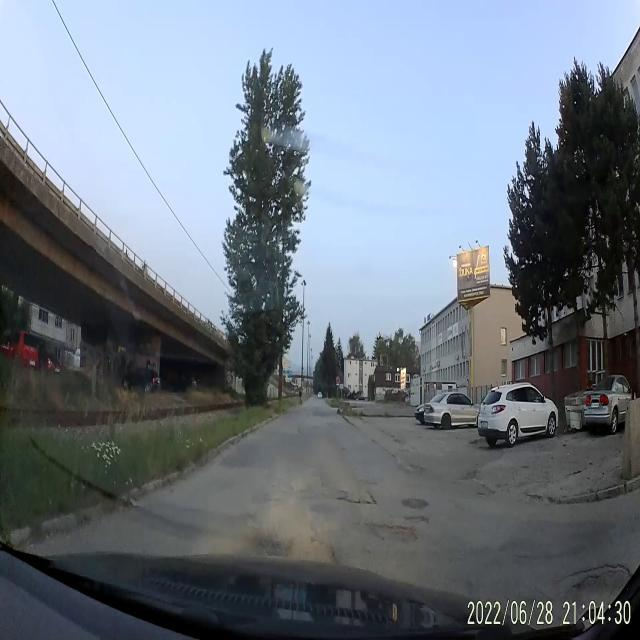Manhole: (401, 492, 430, 514)
Pothole: (366, 518, 418, 552), (341, 496, 378, 505)
